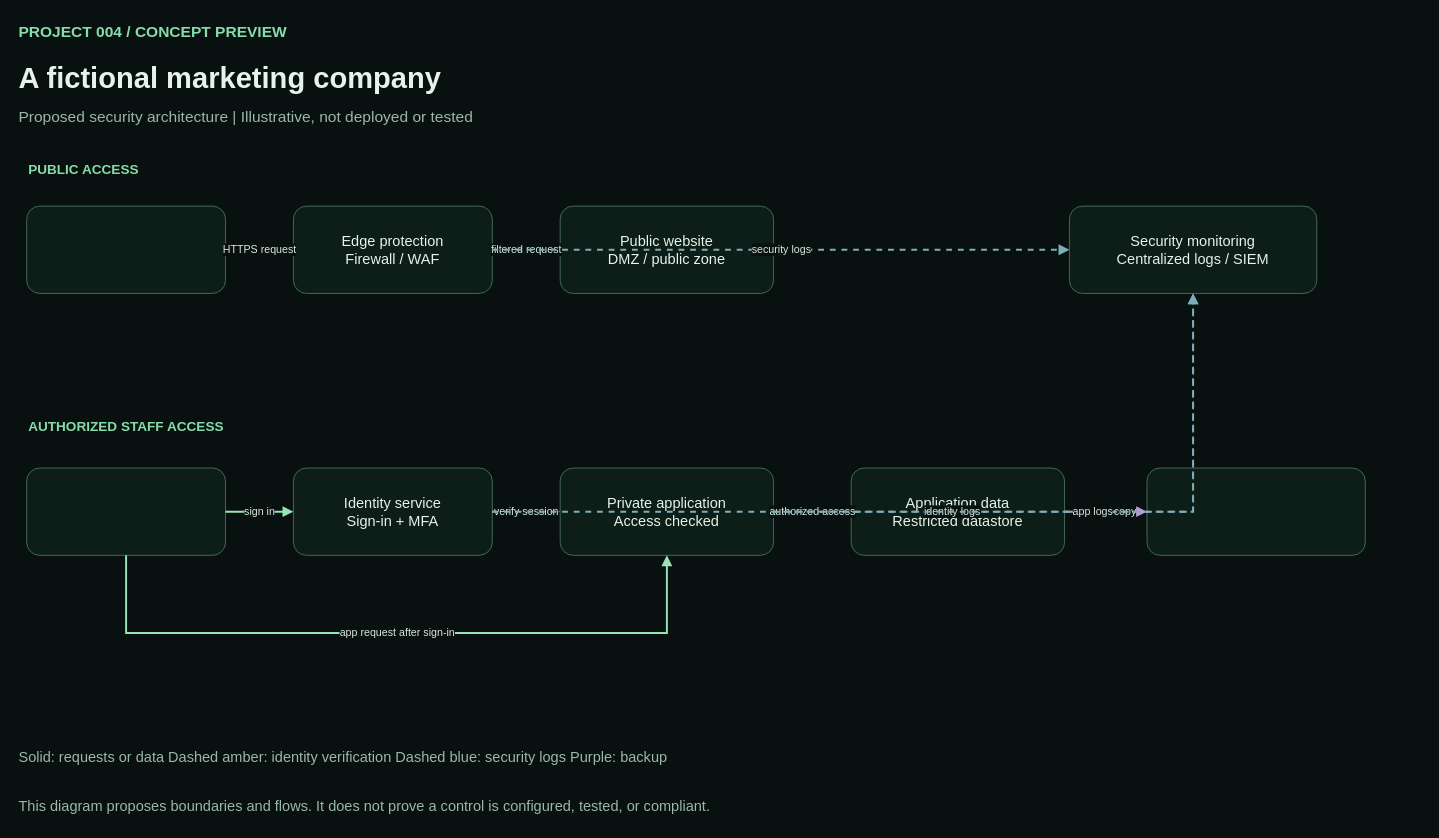
Image size: 1439x838. Some labels were removed from this diagram. The shapes that lost their labels are listed below. From the top down, each one's centre as x and y in pixels, then its label:
At (126,249): "Internet visitor Public web request".
At (126,511): "Staff device Authorized employee".
At (1255,511): "Isolated backup Restore testing planned".
